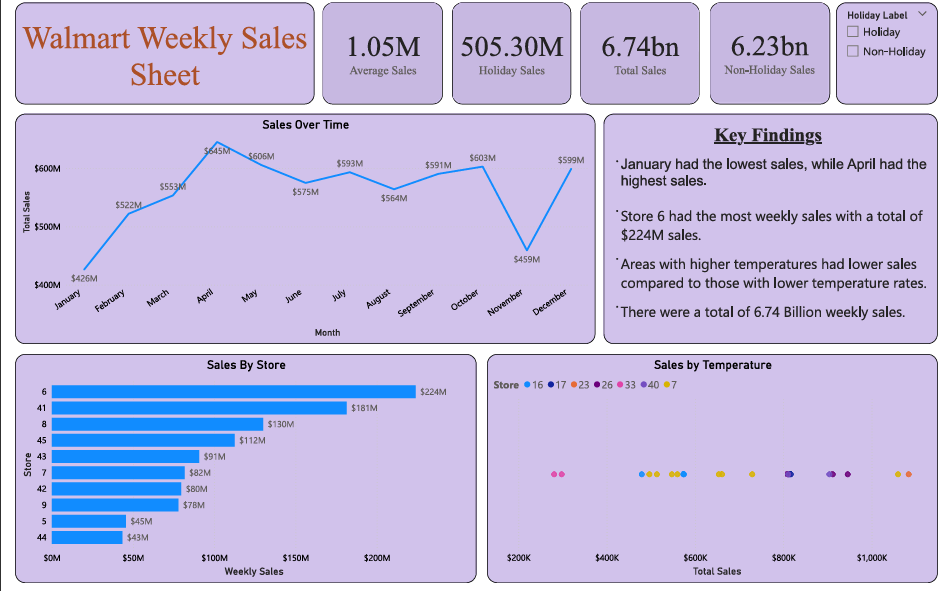

Layout of this report page (visuals, bound fields, positions):
{"tool":"powerbi","page":{"name":"Page 1","canvas":[1560,980],"ordinal":0},"visuals":[{"type":"lineChart","title":"Sales Over Time ","fields":{"Category":["Walmart_Sales.Date_Fixed.Variation.Date Hierarchy.Month"],"Y":["Sum(Walmart_Sales.Weekly_Sales)"]},"box":[0,188.3,980.6,389],"z":0},{"type":"barChart","title":"Sales By Store","fields":{"Category":["Walmart_Sales.Store"],"Y":["Sum(Walmart_Sales.Weekly_Sales)"]},"box":[0,593.7,780,386.9],"z":1000},{"type":"scatterChart","title":"Sales by Temperature ","fields":{"Category":["Walmart_Sales.Temperature"],"X":["Sum(Walmart_Sales.Weekly_Sales)"],"Series":["Walmart_Sales.Store"]},"box":[798.4,593.7,761.6,386.9],"z":2000},{"type":"slicer","fields":{"Values":["Walmart_Sales.Holiday_Label"]},"box":[1388,0,172,172],"z":3000},{"type":"textbox","box":[0,0,505.7,172],"z":4000},{"type":"cardVisual","fields":{"Data":["Walmart_Sales.Average Sales"]},"box":[520,0,202.7,172],"z":5000},{"type":"cardVisual","fields":{"Data":["Walmart_Sales.Holiday Sales"]},"box":[739.1,0,200.6,172],"z":6000},{"type":"cardVisual","fields":{"Data":["Walmart_Sales.Total Sales"]},"box":[956.1,0,200.6,172],"z":7000},{"type":"cardVisual","fields":{"Data":["Walmart_Sales.Non-Holiday Sales"]},"box":[1175.1,0,202.7,172],"z":7001},{"type":"textbox","box":[995,188.3,565,389],"z":7002}]}

Visuals, with their boxes in screenshot pixels (x1, y1, x2, y2), scaled from the page's 1560x980 canvas onto the 951x591 screenshot:
"Sales Over Time " lineChart: rect(0, 114, 598, 348)
"Sales By Store" barChart: rect(0, 358, 476, 590)
"Sales by Temperature " scatterChart: rect(487, 358, 950, 590)
slicer - Walmart_Sales.Holiday_Label: rect(846, 0, 950, 104)
textbox: rect(0, 0, 308, 104)
cardVisual - Walmart_Sales.Average Sales: rect(317, 0, 441, 104)
cardVisual - Walmart_Sales.Holiday Sales: rect(451, 0, 573, 104)
cardVisual - Walmart_Sales.Total Sales: rect(583, 0, 705, 104)
cardVisual - Walmart_Sales.Non-Holiday Sales: rect(716, 0, 840, 104)
textbox: rect(607, 114, 950, 348)
